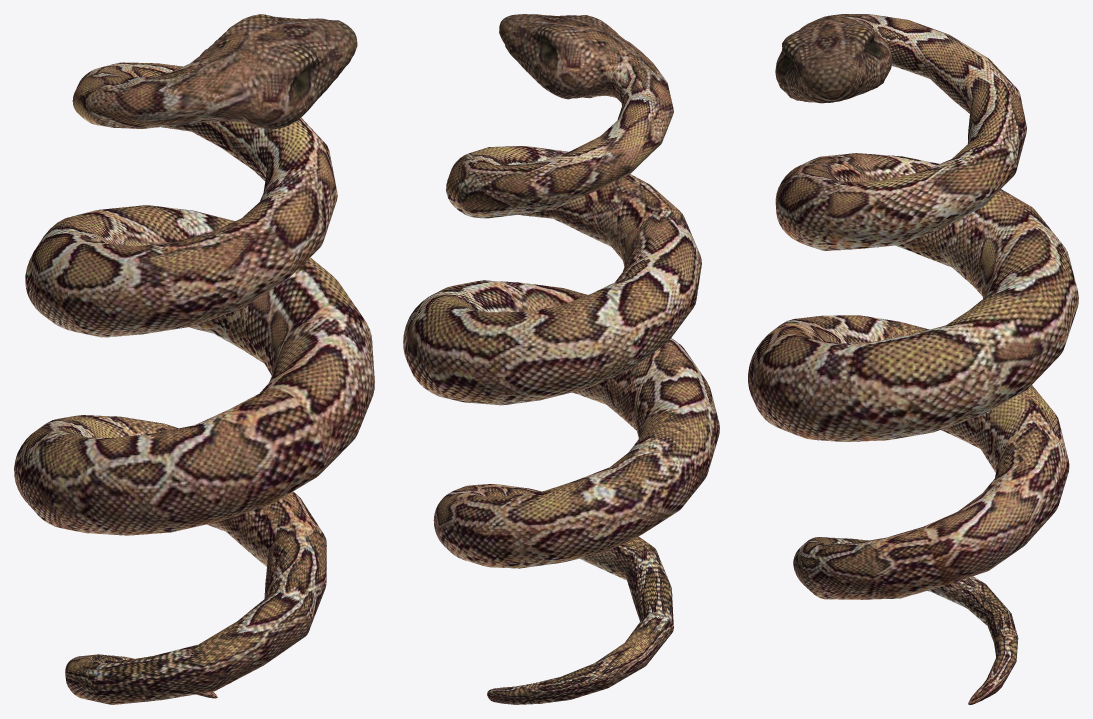
File: snake_body.obj
3 renders of one model, left to right at view 1: azimuth 30°, elevation 25°; view 2: azimuth 150°, elevation 25°; view 3: azimuth 270°, elevation 25°, orthographic. The views are drawn at different scales.
Visible parts, largest first — view 1: Mesh_sub2:Group1; view 2: Mesh_sub2:Group1; view 3: Mesh_sub2:Group1.
Part boxes in pixels (x1,y1,x2,y2): Mesh_sub2:Group1: (14, 14, 374, 704); Mesh_sub2:Group1: (403, 14, 719, 704); Mesh_sub2:Group1: (748, 14, 1078, 704).
Size of the model in its own units: 20.86 by 46.25 by 20.71.
